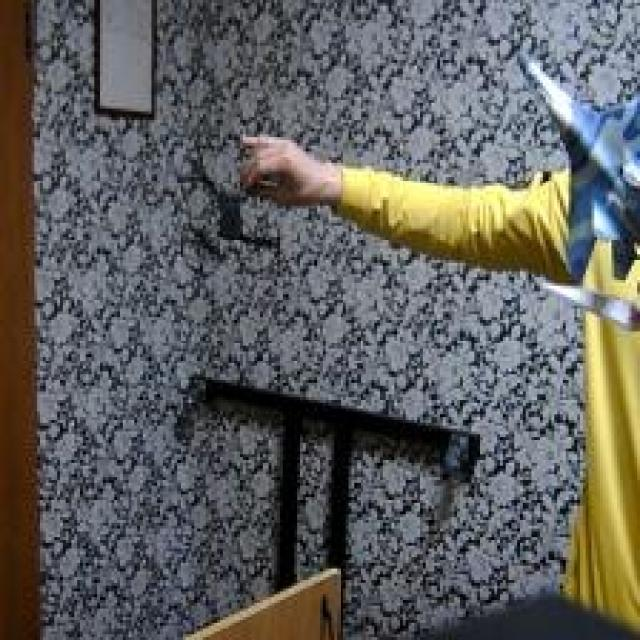drone: (176, 128, 287, 288)
